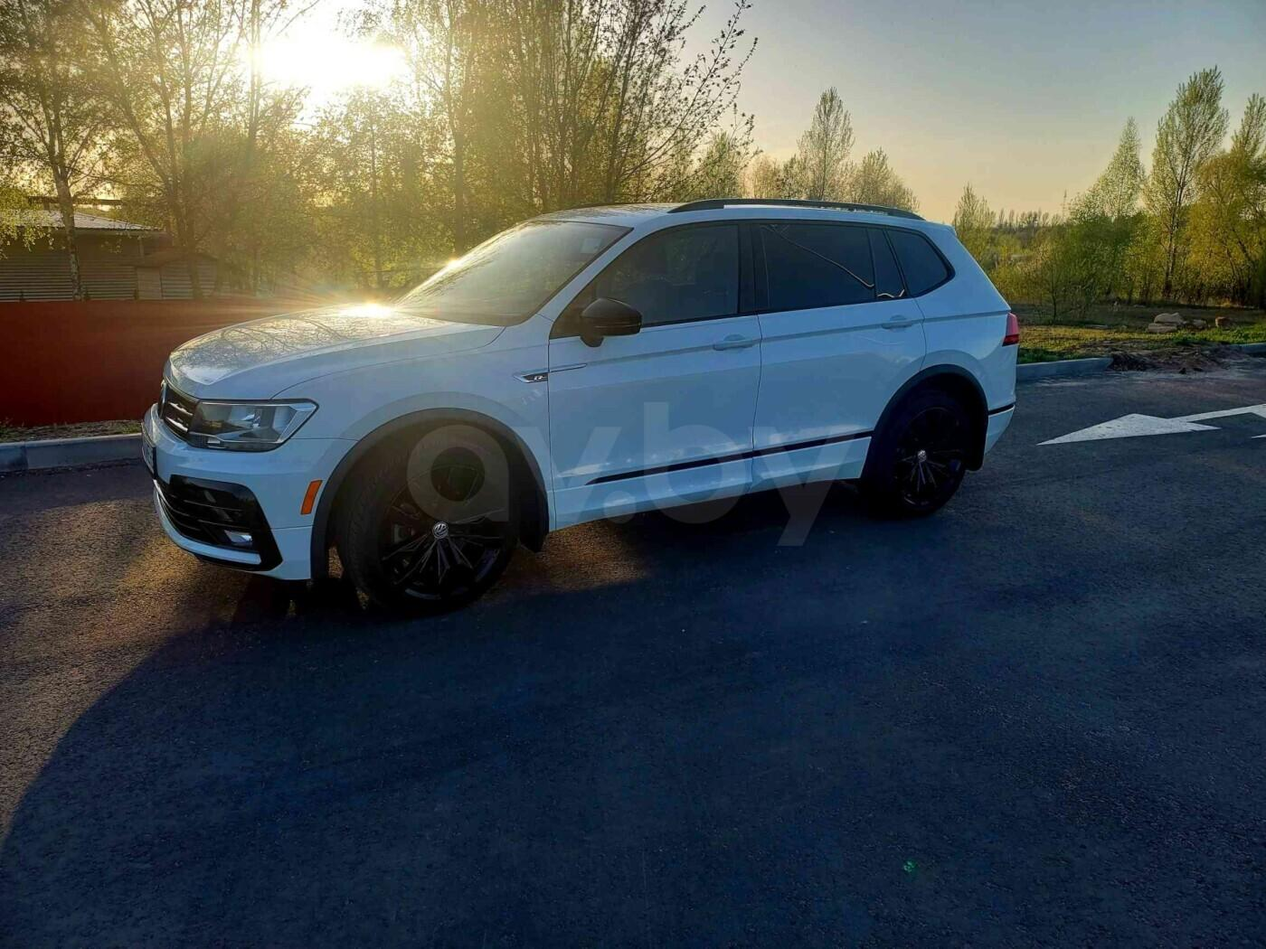Tiguan_2016-2021: (140, 199, 1028, 615)
